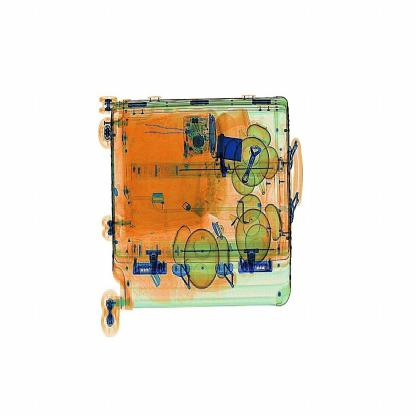pliers: (216, 151, 234, 187)
